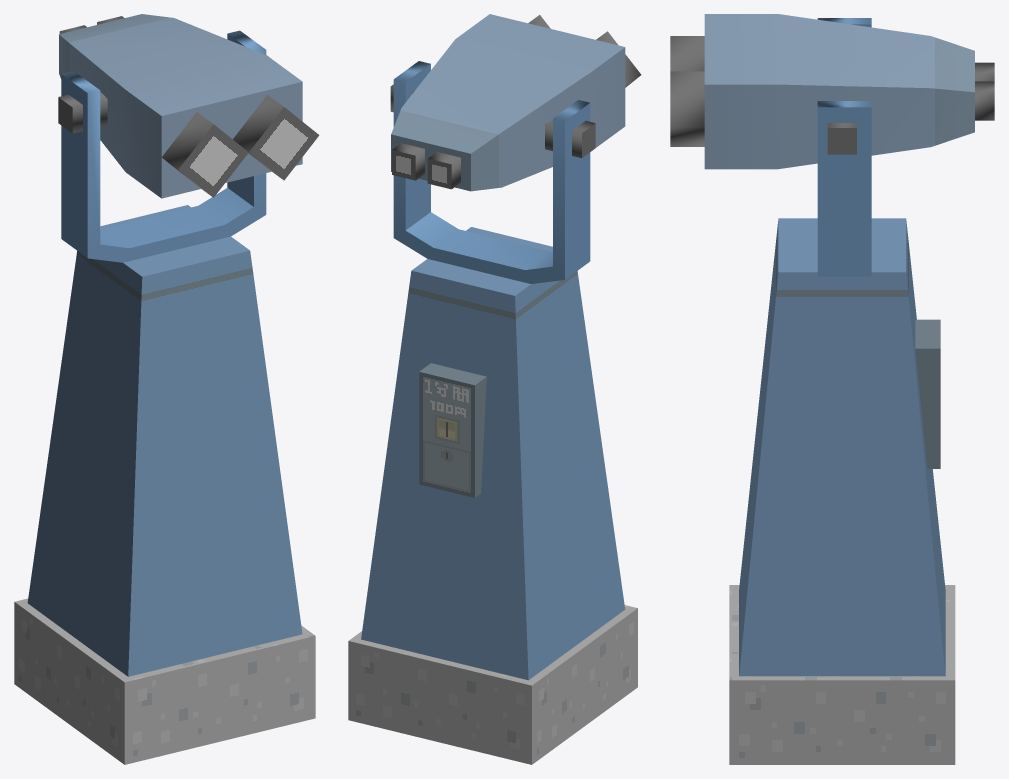
The model's file is 00ae_Binoculars.glb.
The picture shows the model from 3 angles, left to right: view 1: azimuth 30°, elevation 25°; view 2: azimuth 150°, elevation 25°; view 3: azimuth 270°, elevation 25°; orthographic projection. The views are drawn at different scales.
Visible parts, largest first — view 1: part_0; view 2: part_0; view 3: part_0.
Part boxes in pixels (x1,y1,x2,y2): part_0: (14, 14, 319, 764); part_0: (348, 14, 641, 764); part_0: (670, 14, 994, 764).
Bounding box in the file's own units: 0.48 × 1.5 × 0.66.
1 material, 1 textured.
